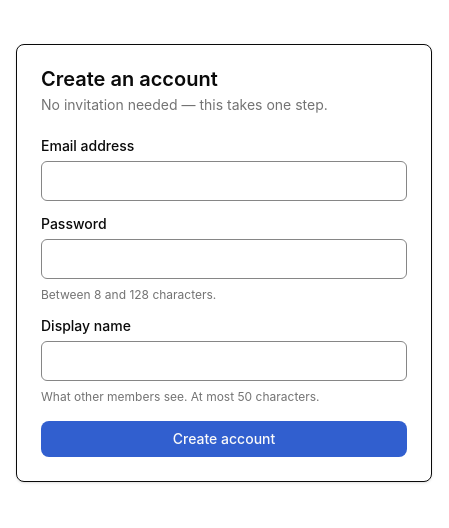
when the address or the name is already taken › says which one collided, and keeps everything typed
The image size is (449, 528).
Type "someone@example.test" into the field labelled "Email address".
click(224, 181); type("someone@example.test")  # box 41,161 -> 407,201
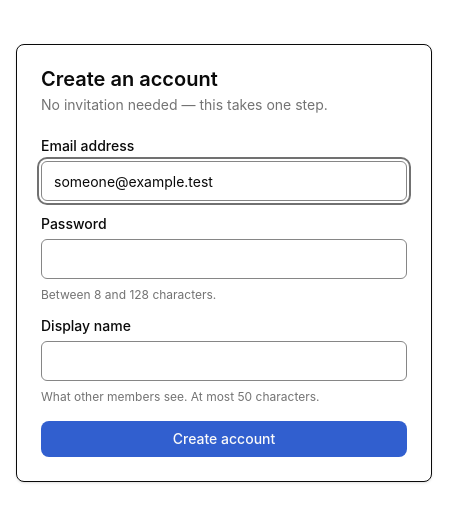
Type "a-long-enough-password" into the password field labelled "Password".
click(224, 259); type("a-long-enough-password")  # box 41,239 -> 407,279
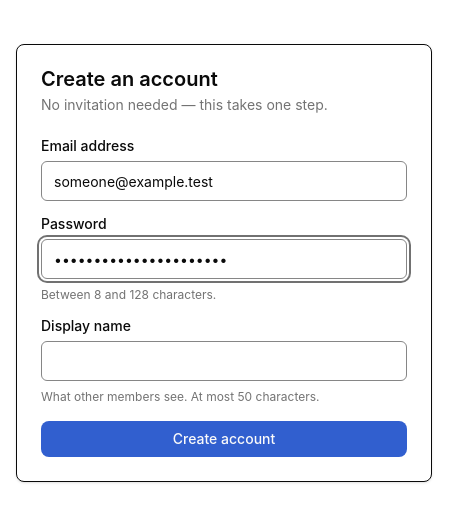
Type "Someone Real" into the field labelled "Display name".
click(224, 361); type("Someone Real")  # box 41,341 -> 407,381
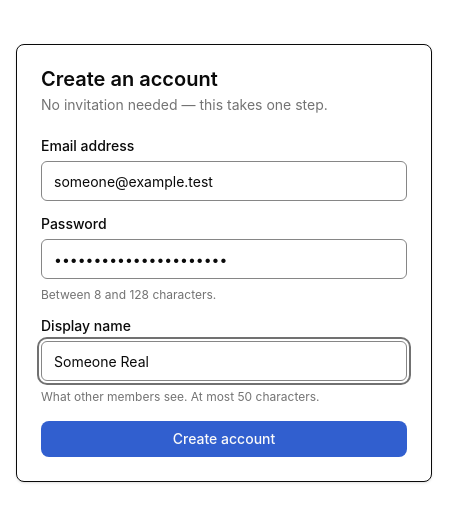
Click the button "Create account".
click(224, 439)  # box 41,421 -> 407,457
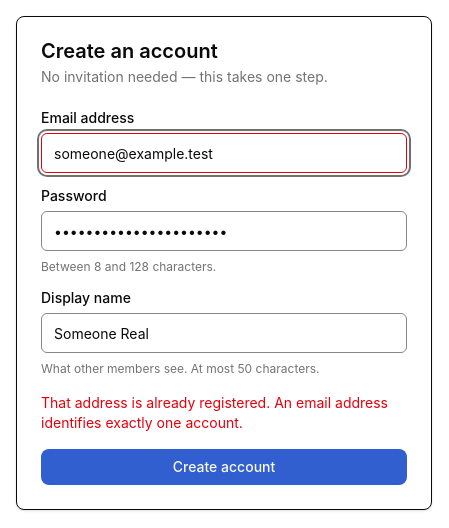
Now the message shows "That address is already registered", box 41,394 -> 388,431
Now the message shows "An email address identifies exactly one account.", box 41,394 -> 388,431
